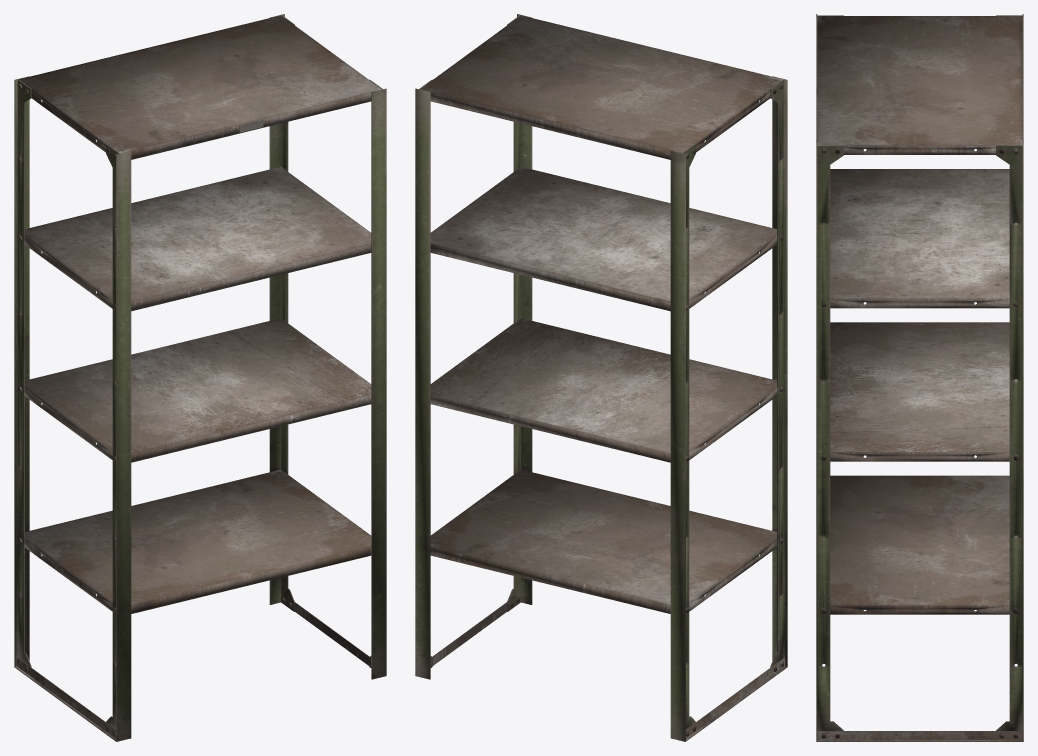
Rendered from worn_metal_rack.fbx.
The picture shows the model from 3 angles, left to right: view 1: azimuth 30°, elevation 25°; view 2: azimuth 150°, elevation 25°; view 3: azimuth 270°, elevation 25°; orthographic projection.
Parts seen in each view (by area): view 1: worn_metal_rack_LOD0; view 2: worn_metal_rack_LOD0; view 3: worn_metal_rack_LOD0.
Part boxes in pixels (bbox=[...]): worn_metal_rack_LOD0: bbox=[14, 14, 386, 741]; worn_metal_rack_LOD0: bbox=[415, 14, 787, 741]; worn_metal_rack_LOD0: bbox=[816, 14, 1023, 741].
Size of what is drawn, in the model's own units: 91.54 by 190 by 60.
1 material, 1 textured.
